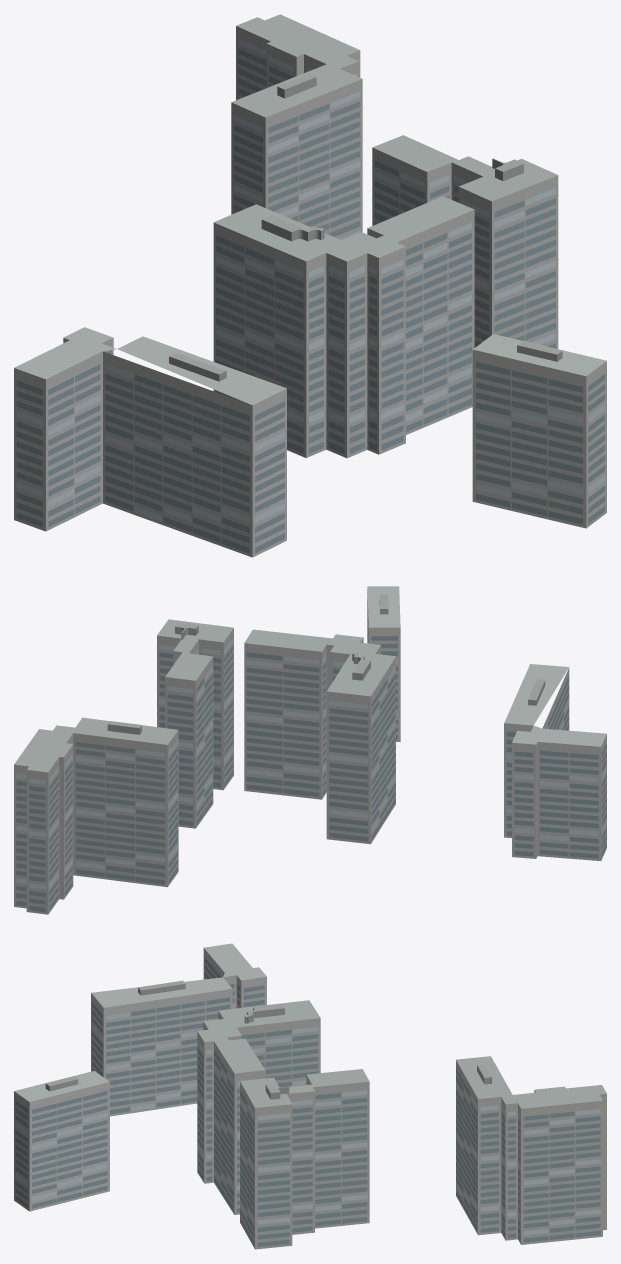
The model's file is apt-a13980105.glb.
3 renders of one model, top to bottom at view 1: azimuth 30°, elevation 25°; view 2: azimuth 150°, elevation 25°; view 3: azimuth 270°, elevation 25°, orthographic. The views are drawn at different scales.
Visible parts, largest first — view 1: apt-a13980105; view 2: apt-a13980105; view 3: apt-a13980105.
Part boxes in pixels (bbox=[...]): apt-a13980105: bbox=[14, 14, 606, 557]; apt-a13980105: bbox=[14, 586, 606, 914]; apt-a13980105: bbox=[14, 943, 606, 1249].
Bounding box in the file's own units: 151 × 53 × 192.
